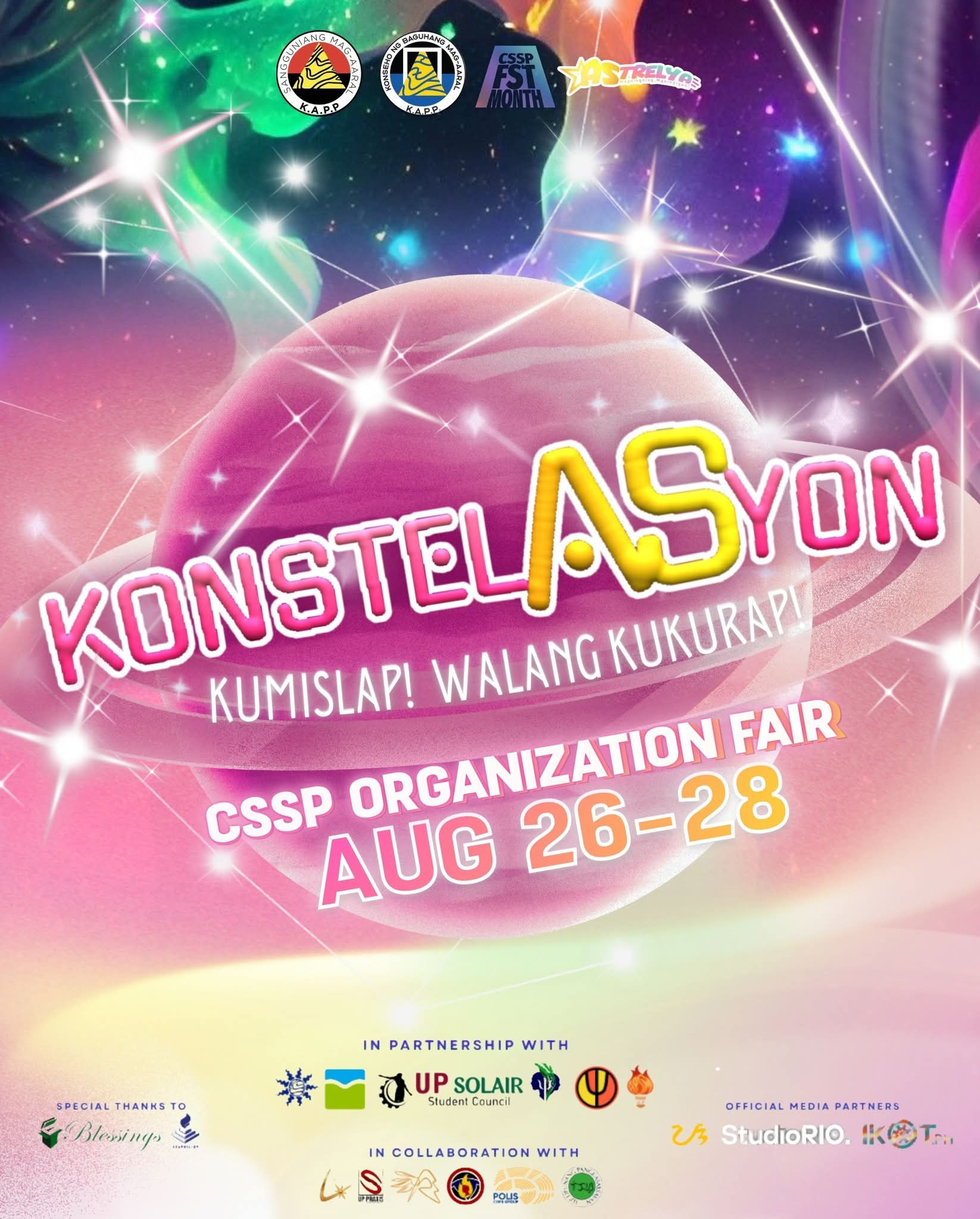logo: (275, 1062, 662, 1116), (311, 1158, 610, 1211), (667, 1114, 965, 1159), (370, 25, 474, 121), (273, 25, 370, 120), (558, 48, 707, 105), (36, 1113, 208, 1155), (475, 32, 559, 115)
text: (361, 1138, 587, 1163), (358, 1031, 579, 1055), (719, 1096, 912, 1118), (49, 1095, 195, 1116)
